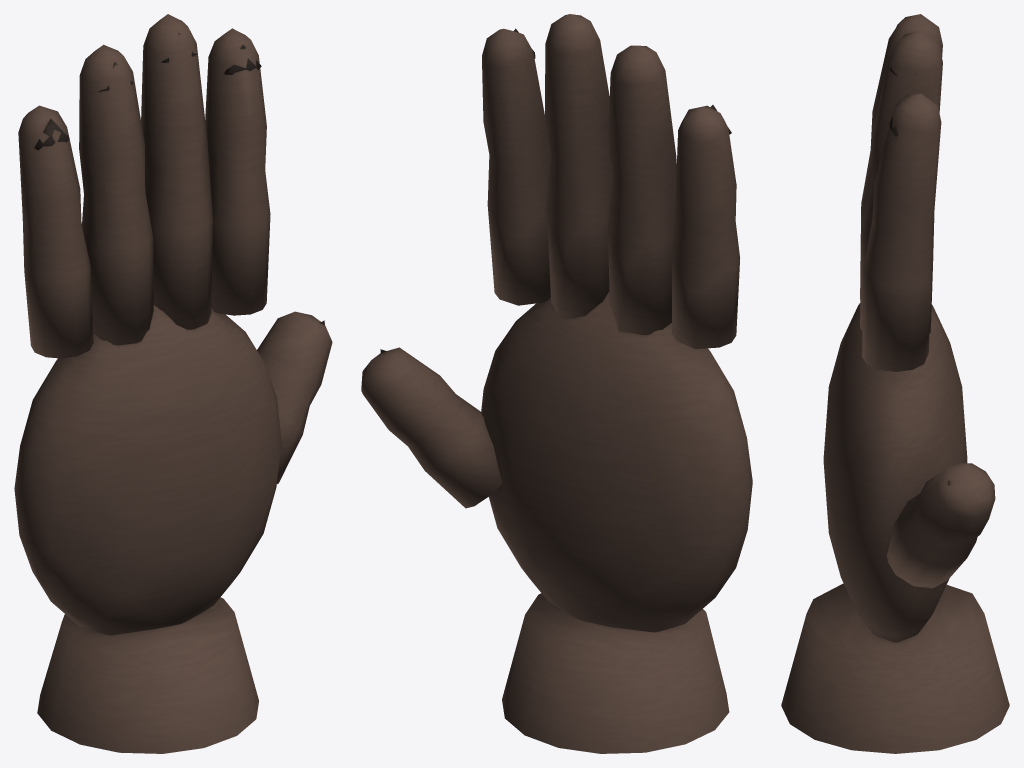
The model's file is cpart_hand_primate.glb.
The picture shows the model from 3 angles, left to right: view 1: azimuth 30°, elevation 25°; view 2: azimuth 150°, elevation 25°; view 3: azimuth 270°, elevation 25°; orthographic projection. The views are drawn at different scales.
Visible parts, largest first — view 1: HandPrimate, Nails; view 2: HandPrimate; view 3: HandPrimate.
Part boxes in pixels (<box>): HandPrimate: <box>14,14,332,753</box>; Nails: <box>34,33,324,324</box>; HandPrimate: <box>361,14,752,753</box>; HandPrimate: <box>781,14,1009,753</box>.
Bounding box in the file's own units: 0.0952 × 0.18 × 0.054.
2 materials, 2 textured.
